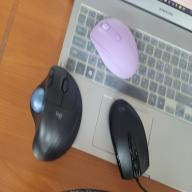mouse: (29, 64, 84, 162), (108, 98, 151, 181), (89, 16, 140, 80)
